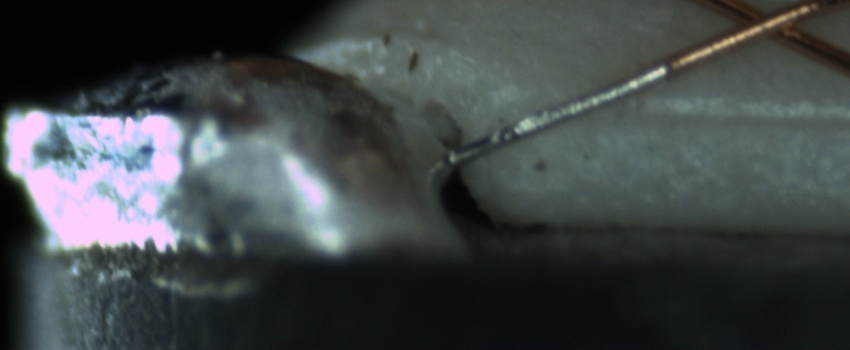CL: (708, 1, 823, 48)
DL: (612, 82, 845, 152)
TS: (441, 59, 657, 166)
TTCW: (441, 33, 733, 165)
